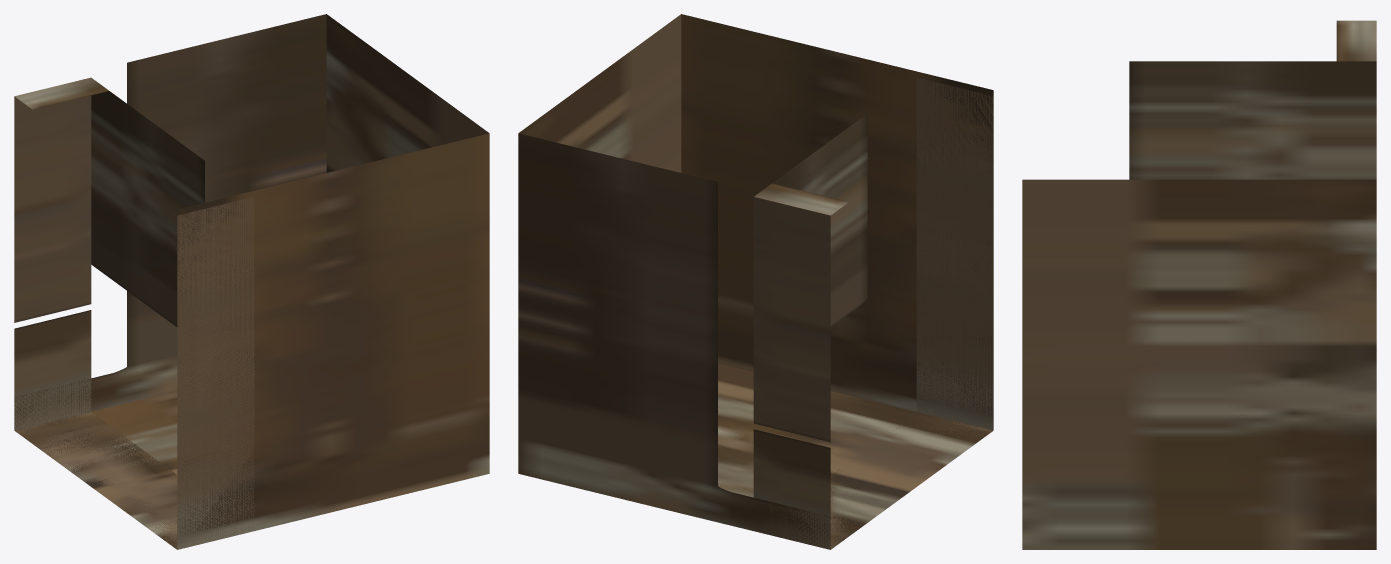
File: section-6.obj
The picture shows the model from 3 angles, left to right: view 1: azimuth 30°, elevation 25°; view 2: azimuth 150°, elevation 25°; view 3: azimuth 270°, elevation 25°; orthographic projection. The views are drawn at different scales.
Size of the model in its own units: 0.9008 by 0.9383 by 0.8142.
